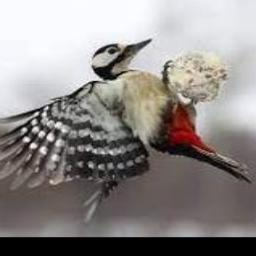Woodpecker: (0, 39, 253, 220)
